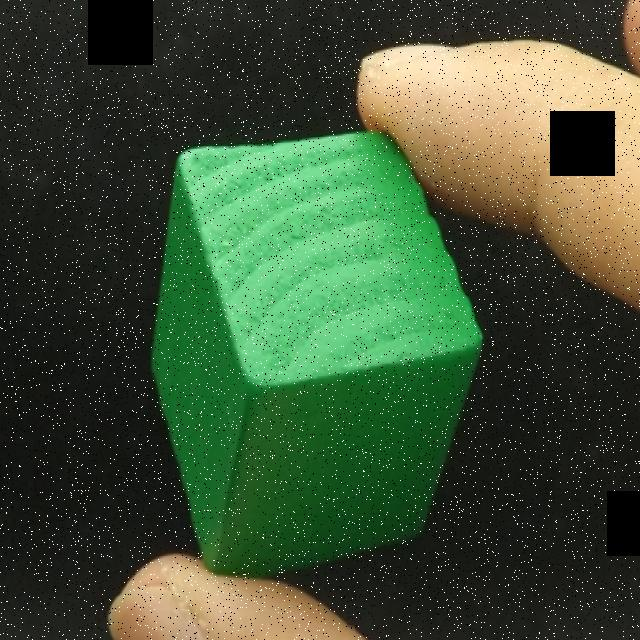green cube: (150, 131, 484, 581)
